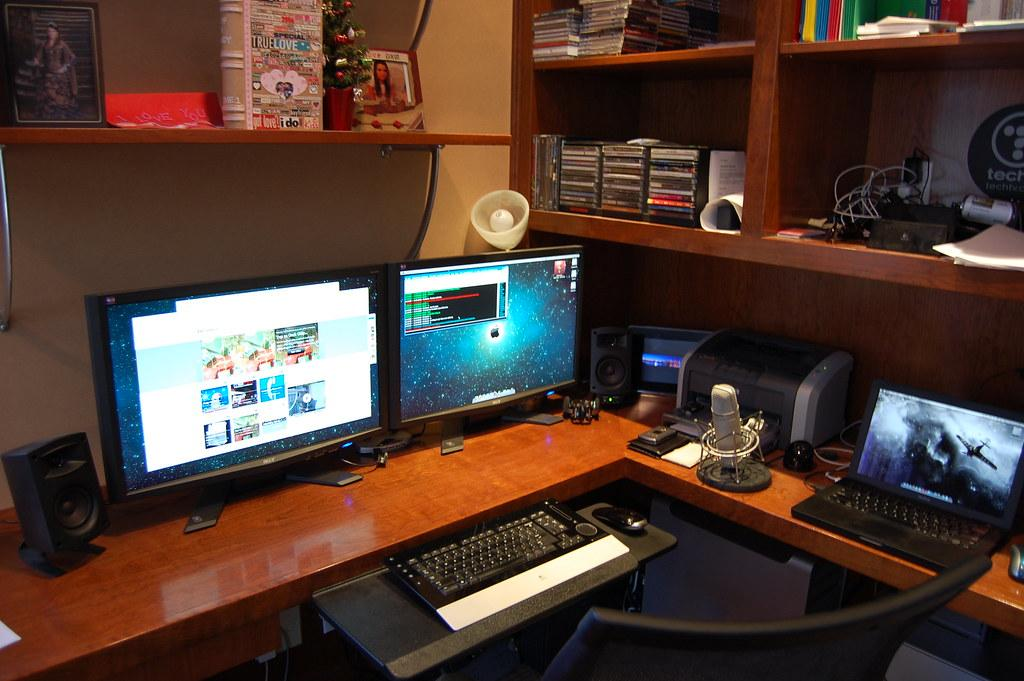computer: (84, 263, 388, 533), (387, 244, 586, 453)
